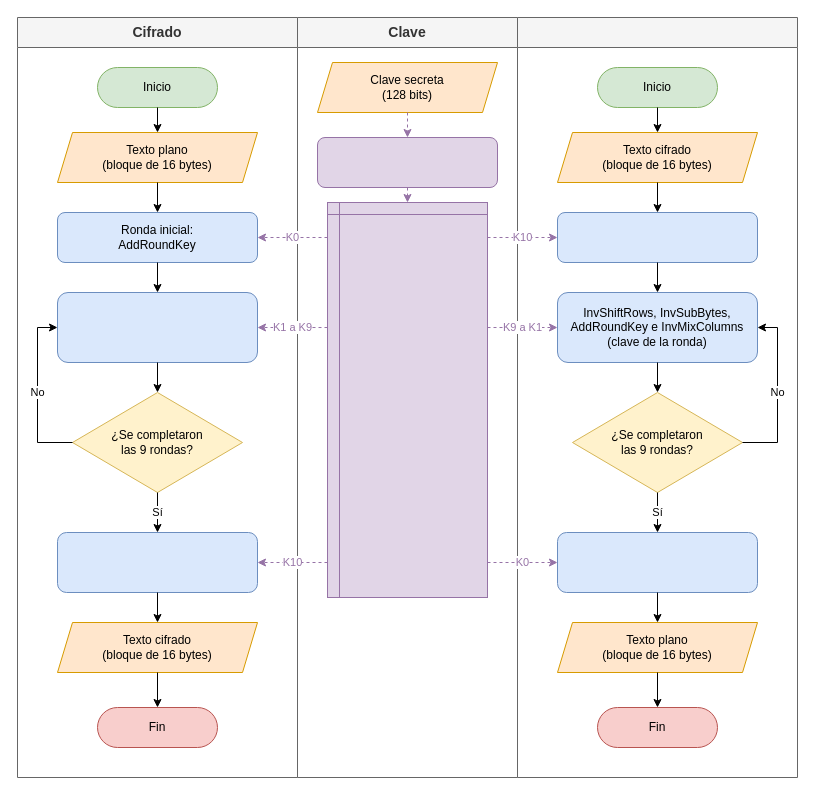
This 815x795 diagram has some shape labels left out. The box of each missing label's shape, as (x1, y1, x2, y2) in pixels:
11 subclaves K0 a K10 (128 bits cada una): (326, 202, 488, 598)
Descifrado: (516, 16, 798, 778)
KeyExpansion (RotWord, SubWord, Rcon): (316, 136, 498, 188)
Paso inicial: AddRoundKey: (556, 212, 758, 262)
Ronda final: InvShiftRows, InvSubBytes y AddRoundKey: (556, 532, 758, 592)
Ronda final: SubBytes, ShiftRows y AddRoundKey (sin MixColumns): (56, 532, 258, 592)
SubBytes, ShiftRows, MixColumns y AddRoundKey (clave de la ronda): (56, 292, 258, 362)
